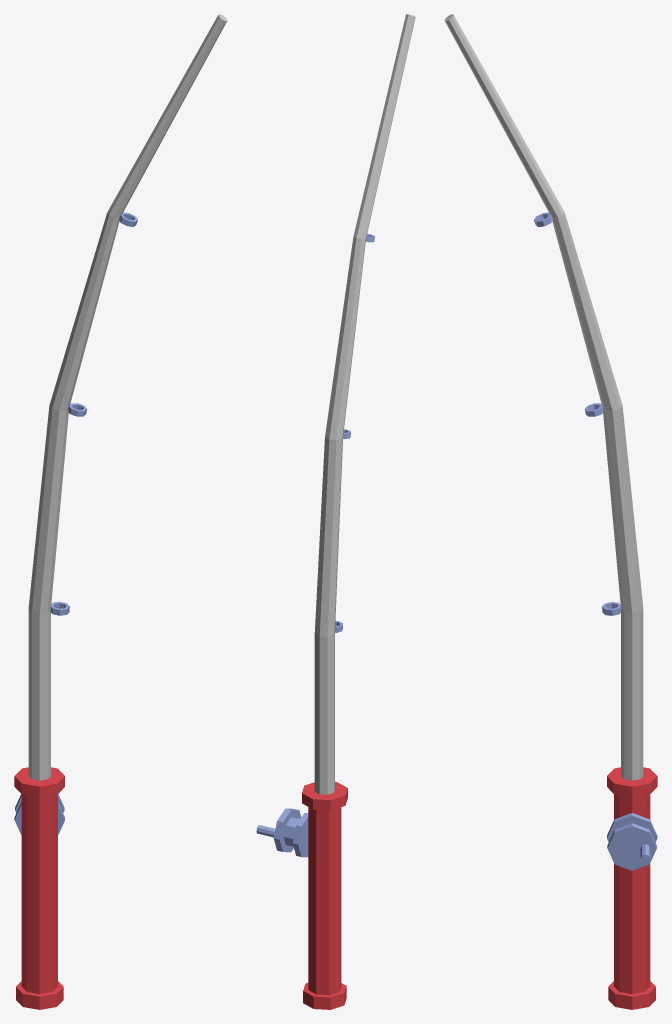
Rendered from angel.fbx.
The picture shows the model from 3 angles, left to right: view 1: azimuth 90°, elevation 25°; view 2: azimuth 150°, elevation 25°; view 3: azimuth 270°, elevation 25°; orthographic projection. The views are drawn at different scales.
Visible parts, largest first — view 1: angel; view 2: angel; view 3: angel.
Boxes of the visible parts, box(x1,y1,x2,y2) form: angel: box(14, 14, 227, 1009); angel: box(256, 14, 415, 1009); angel: box(444, 14, 657, 1009).
Size of the model in its own units: 72.54 by 796 by 156.
